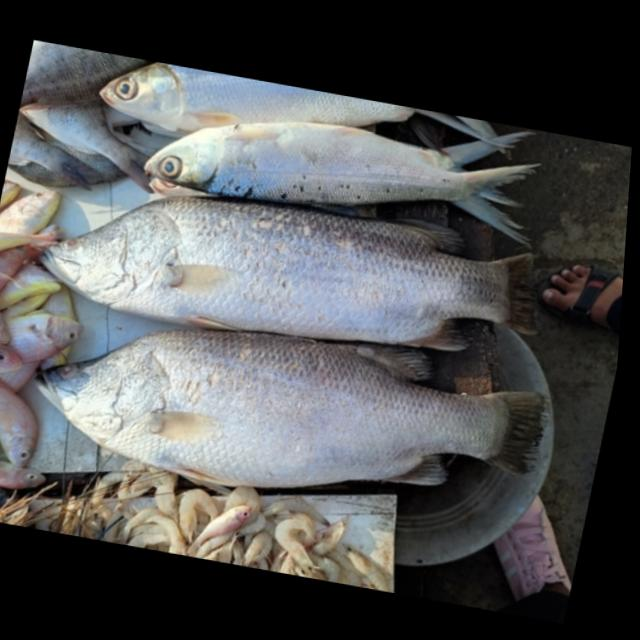Seabass: (13, 286, 559, 541), (24, 154, 560, 385)
